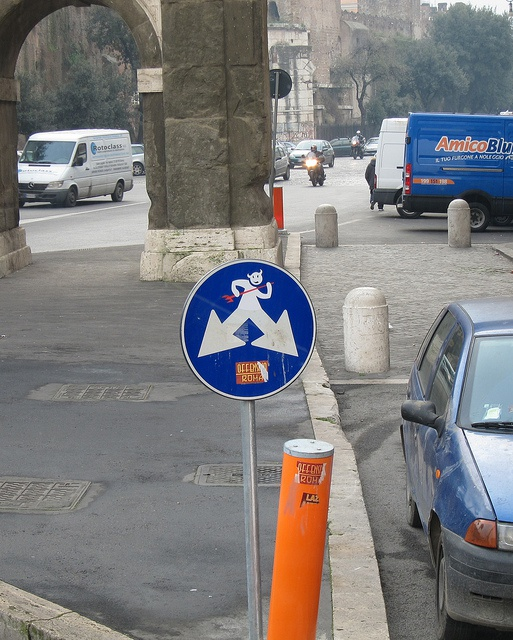non-vehicle: (302, 151, 324, 184), (350, 139, 364, 159)
